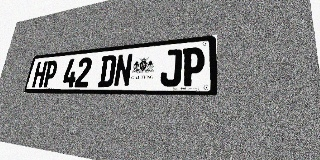2: (74, 57, 93, 87)
4: (62, 58, 79, 87)
D: (97, 55, 117, 87)
H: (31, 61, 48, 88)
J: (160, 49, 182, 87)
N: (113, 53, 133, 87)
P: (181, 47, 205, 86), (42, 60, 59, 88)
